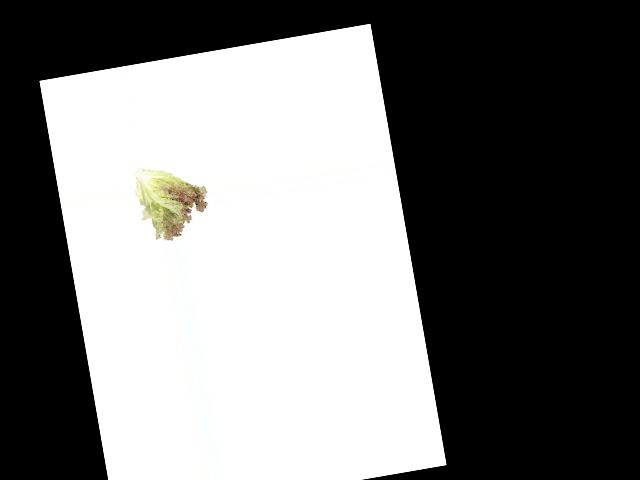lettuce: (132, 158, 213, 245)
